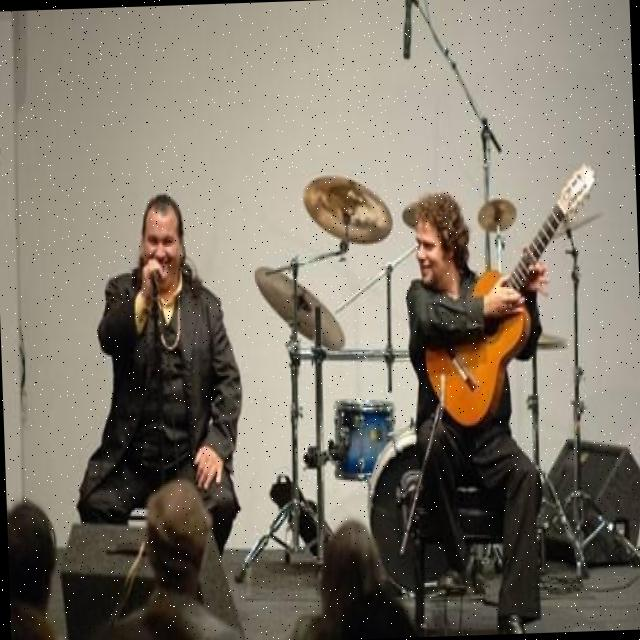guitar: (416, 160, 606, 434)
